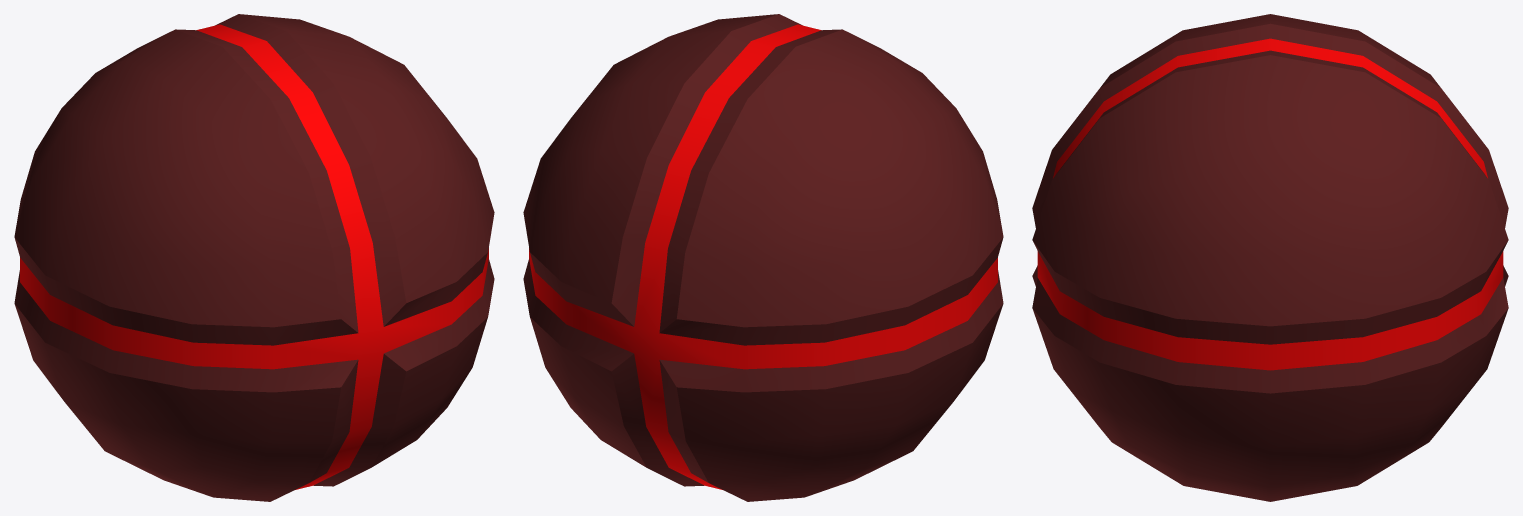
File: ball.FBX
3 views of the same model, side by side, from view 1: azimuth 30°, elevation 25°; view 2: azimuth 150°, elevation 25°; view 3: azimuth 270°, elevation 25° (orthographic).
Parts seen in each view (by area): view 1: Box001; view 2: Box001; view 3: Box001.
Part boxes in pixels (bbox=[...]): Box001: bbox=[14, 14, 494, 501]; Box001: bbox=[523, 14, 1003, 501]; Box001: bbox=[1032, 14, 1508, 501].
Size of what is drawn, in the model's own units: 0.8464 by 0.8464 by 0.8358.
